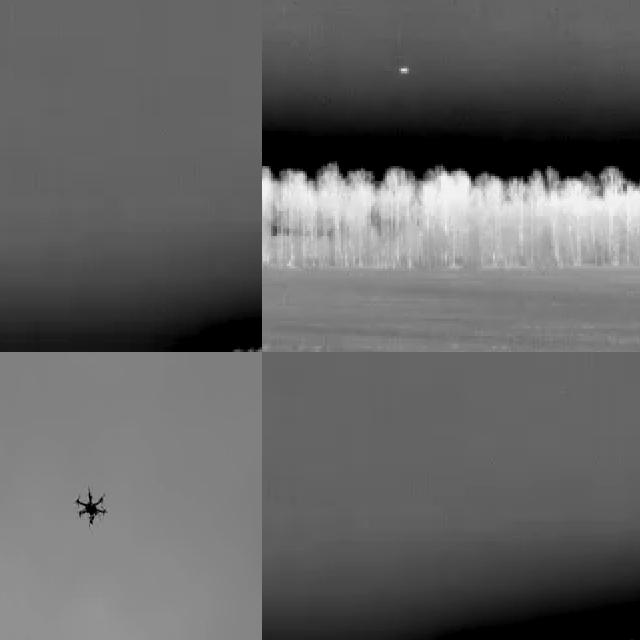1: (389, 55, 417, 82)
drone: (74, 485, 111, 531)
